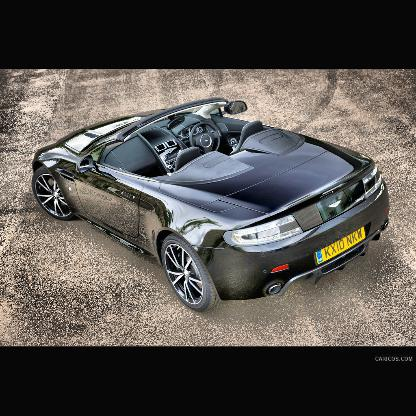Aston Martin V8 Vantage Convertible 2012: (32, 99, 390, 315)
